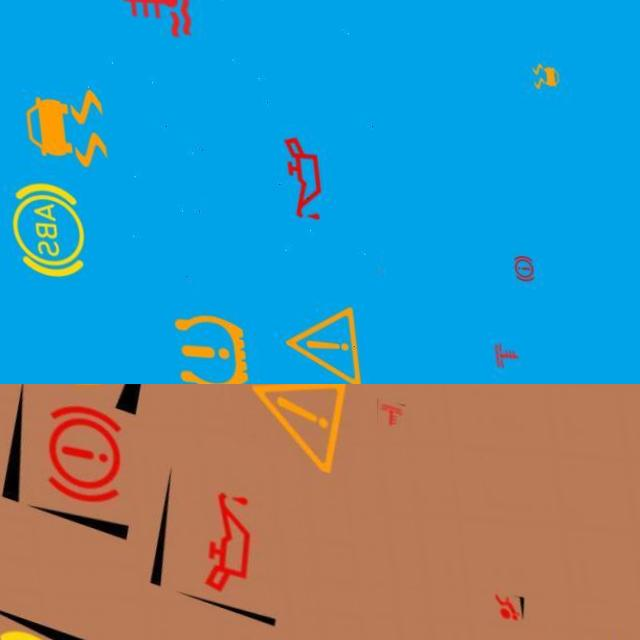High Engine Coolant Temperature: (479, 334, 515, 369)
